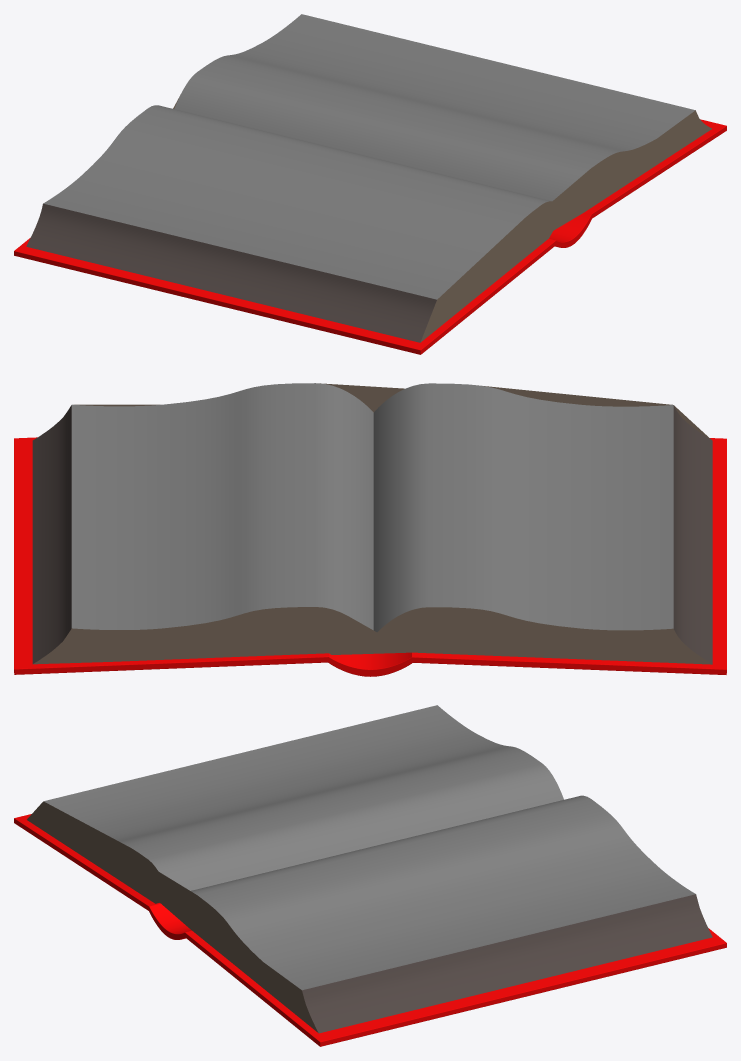
File: book open.FBX
3 renders of one model, top to bottom at view 1: azimuth 30°, elevation 25°; view 2: azimuth 150°, elevation 25°; view 3: azimuth 270°, elevation 25°, orthographic. The views are drawn at different scales.
Parts seen in each view (by area): view 1: libro; view 2: libro; view 3: libro.
Part boxes in pixels (x1,y1,x2,y2): libro: [14, 14, 726, 354]; libro: [14, 383, 726, 676]; libro: [14, 705, 726, 1046].
Size of the model in its own units: 367 by 30.29 by 342.
